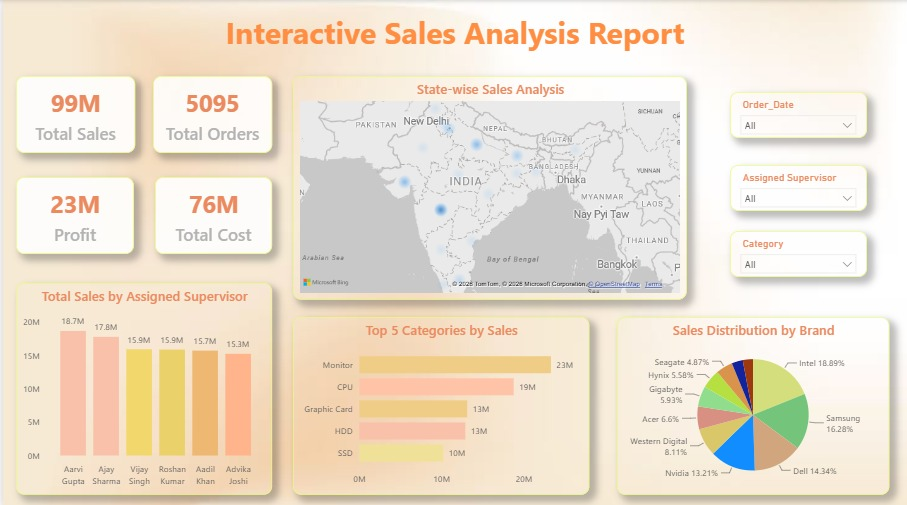

This screenshot's page, from the dashboard's own definition file:
{"tool":"powerbi","page":{"name":"Page 1","canvas":[1280,720],"ordinal":0},"visuals":[{"type":"textbox","box":[201.3,11.3,878.7,80.8],"z":0},{"type":"card","fields":{"Values":["Complete_Techno_Sales_Data-2 xlsx - Sales_Data.Total Sales"]},"box":[18.4,107.7,168.7,109.1],"z":1000},{"type":"card","fields":{"Values":["Complete_Techno_Sales_Data-2 xlsx - Sales_Data.Total Orders"]},"box":[212.6,107.7,168.7,109.1],"z":2000},{"type":"card","fields":{"Values":["Complete_Techno_Sales_Data-2 xlsx - Sales_Data.Profit"]},"box":[18.4,250.9,167.2,109.1],"z":3000},{"type":"card","fields":{"Values":["Complete_Techno_Sales_Data-2 xlsx - Sales_Data.Total Cost"]},"box":[215.4,250.9,165.8,109.1],"z":4000},{"type":"clusteredBarChart","title":"Top 5 Categories by Sales","fields":{"Category":["Complete_Techno_Sales_Data-2 xlsx - Sales_Data.Category"],"Y":["Complete_Techno_Sales_Data-2 xlsx - Sales_Data.Total Sales"]},"box":[411,449.3,419.5,252.3],"z":5000},{"type":"pieChart","title":"Sales Distribution by Brand","fields":{"Category":["Complete_Techno_Sales_Data-2 xlsx - Sales_Data.Brand"],"Y":["Complete_Techno_Sales_Data-2 xlsx - Sales_Data.Total Sales"]},"box":[870.2,449.3,385.5,252.3],"z":6000},{"type":"map","title":"State-wise Sales Analysis","fields":{"Size":["Complete_Techno_Sales_Data-2 xlsx - Sales_Data.Total Sales"],"Category":["Complete_Techno_Sales_Data-2 xlsx - Sales_Data.State Name"]},"box":[411,107.7,558.4,317.5],"z":7000},{"type":"clusteredColumnChart","fields":{"Category":["Complete_Techno_Sales_Data-2 xlsx - Sales_Data.Assigned Supervisor"],"Y":["Complete_Techno_Sales_Data-2 xlsx - Sales_Data.Total Sales"]},"box":[18.4,401.1,362.8,300.5],"z":8000},{"type":"slicer","fields":{"Values":["Complete_Techno_Sales_Data-2 xlsx - Sales_Data.Order_Date"]},"box":[1030.4,130.4,194.2,65.2],"z":9000},{"type":"slicer","fields":{"Values":["Complete_Techno_Sales_Data-2 xlsx - Sales_Data.Category"]},"box":[1030.4,327.4,194.2,65.2],"z":10000},{"type":"slicer","fields":{"Values":["Complete_Techno_Sales_Data-2 xlsx - Sales_Data.Assigned Supervisor"]},"box":[1030.4,233.9,194.2,65.2],"z":11000}]}

Visuals, with their boxes in screenshot pixels (x1, y1, x2, y2), scaled from the page's 1280x720 canvas onto the 907x505 screenshot:
textbox: region(143, 8, 765, 65)
card - Complete_Techno_Sales_Data-2 xlsx - Sales_Data.Total Sales: region(13, 76, 133, 152)
card - Complete_Techno_Sales_Data-2 xlsx - Sales_Data.Total Orders: region(151, 76, 270, 152)
card - Complete_Techno_Sales_Data-2 xlsx - Sales_Data.Profit: region(13, 176, 132, 252)
card - Complete_Techno_Sales_Data-2 xlsx - Sales_Data.Total Cost: region(153, 176, 270, 252)
"Top 5 Categories by Sales" clusteredBarChart: region(291, 315, 588, 492)
"Sales Distribution by Brand" pieChart: region(617, 315, 890, 492)
"State-wise Sales Analysis" map: region(291, 76, 687, 298)
clusteredColumnChart - Complete_Techno_Sales_Data-2 xlsx - Sales_Data.Assigned Supervisor x Complete_Techno_Sales_Data-2 xlsx - Sales_Data.Total Sales: region(13, 281, 270, 492)
slicer - Complete_Techno_Sales_Data-2 xlsx - Sales_Data.Order_Date: region(730, 91, 868, 137)
slicer - Complete_Techno_Sales_Data-2 xlsx - Sales_Data.Category: region(730, 230, 868, 275)
slicer - Complete_Techno_Sales_Data-2 xlsx - Sales_Data.Assigned Supervisor: region(730, 164, 868, 210)
